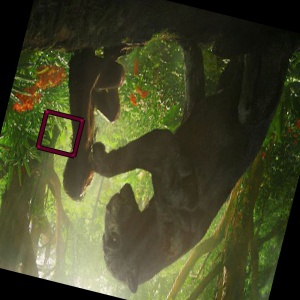square: (33, 107, 85, 160)
